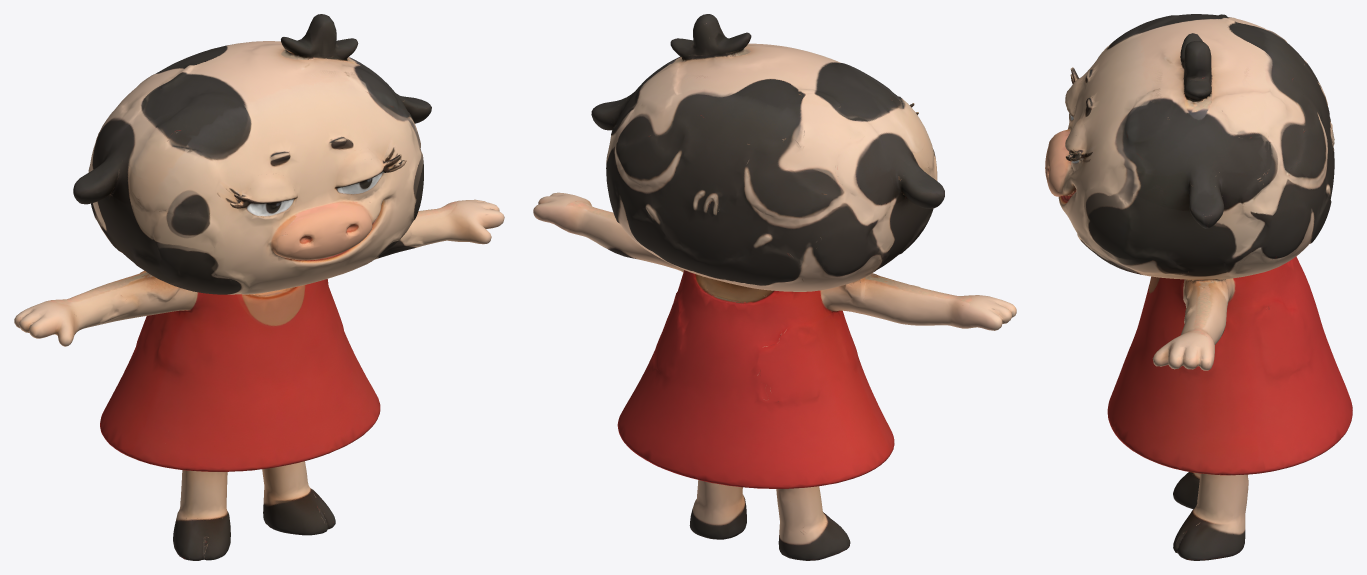
3 views of the same model, side by side, from view 1: azimuth 30°, elevation 25°; view 2: azimuth 150°, elevation 25°; view 3: azimuth 270°, elevation 25° (orthographic). The views are drawn at different scales.
Bounding box in the file's own units: 1.88 × 1.92 × 1.03.
1 material, 1 textured.
